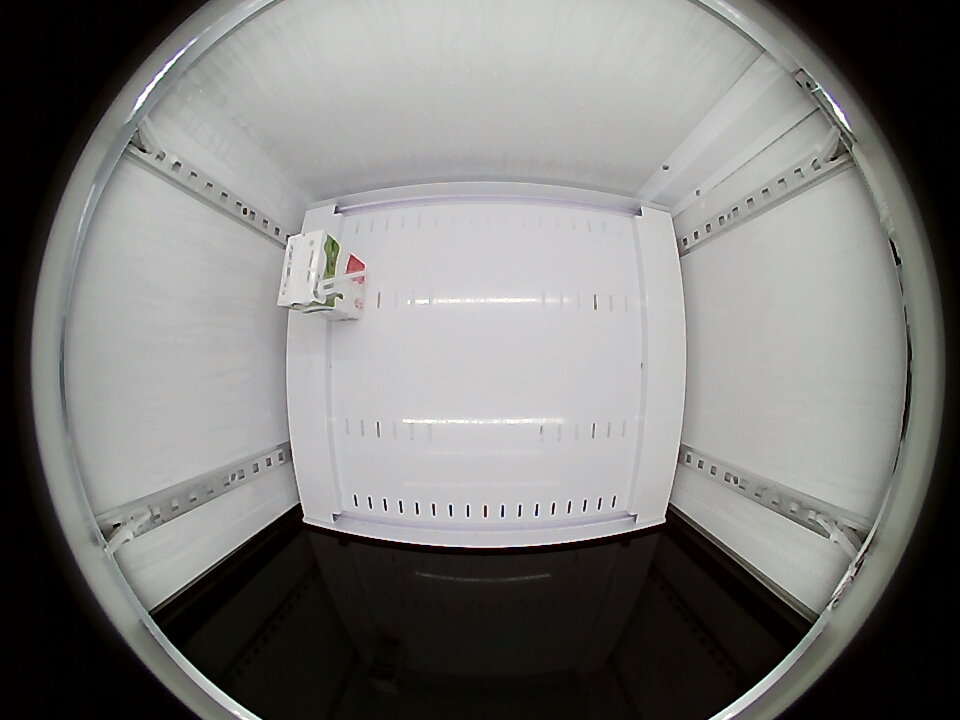mengniu: (278, 228, 339, 311)
